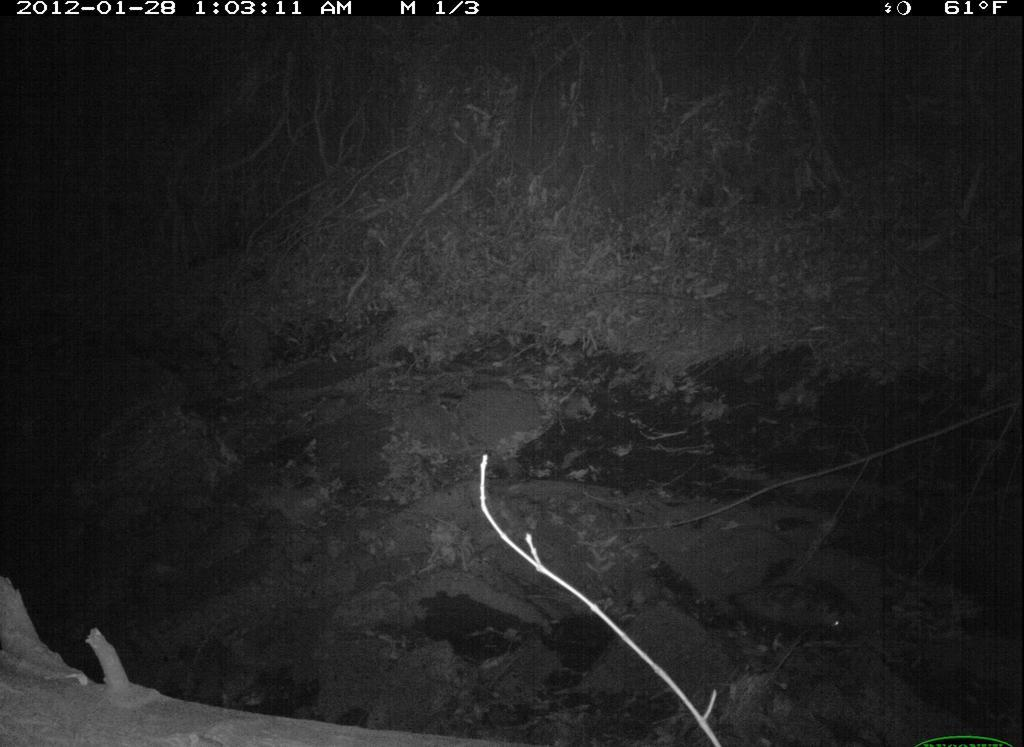opossum: (729, 560, 879, 657)
